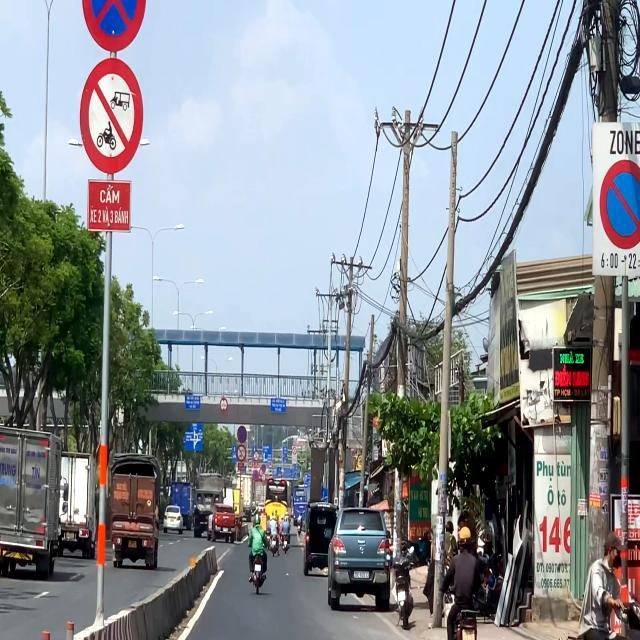Cam do xe: (595, 156, 640, 249)
Cam dung xe va do xe: (80, 0, 148, 55)
